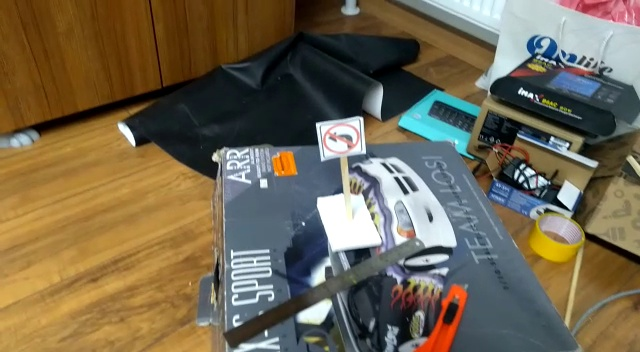sola_donulmez: (321, 119, 360, 159)
